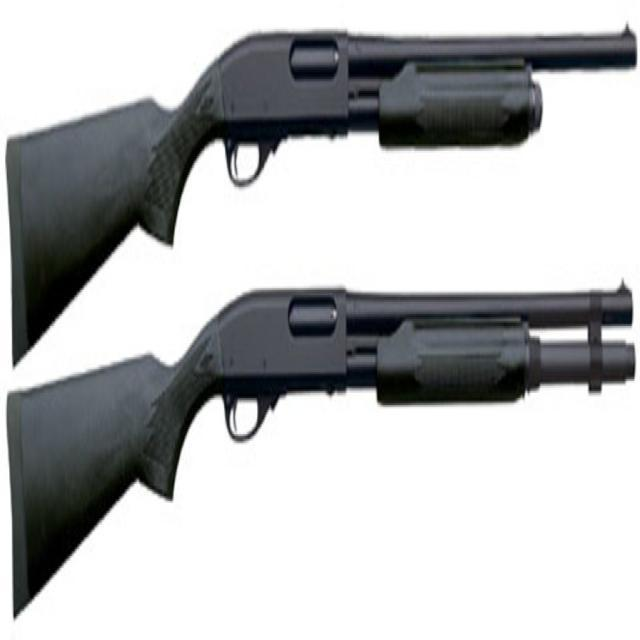weapon: (5, 22, 638, 370), (7, 277, 636, 623)
